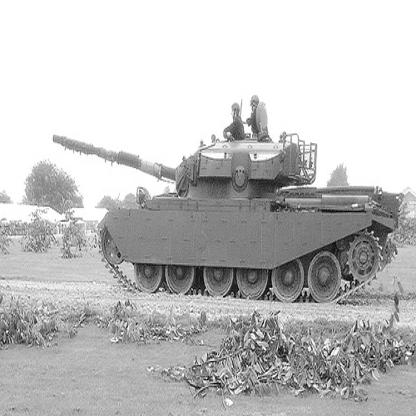Tank: (45, 116, 403, 308)
